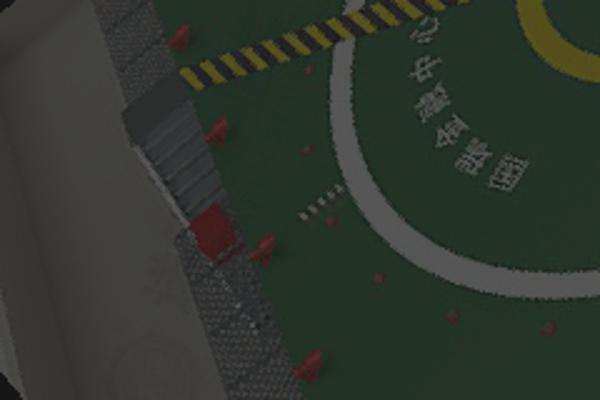Apron: (508, 3, 598, 92)
